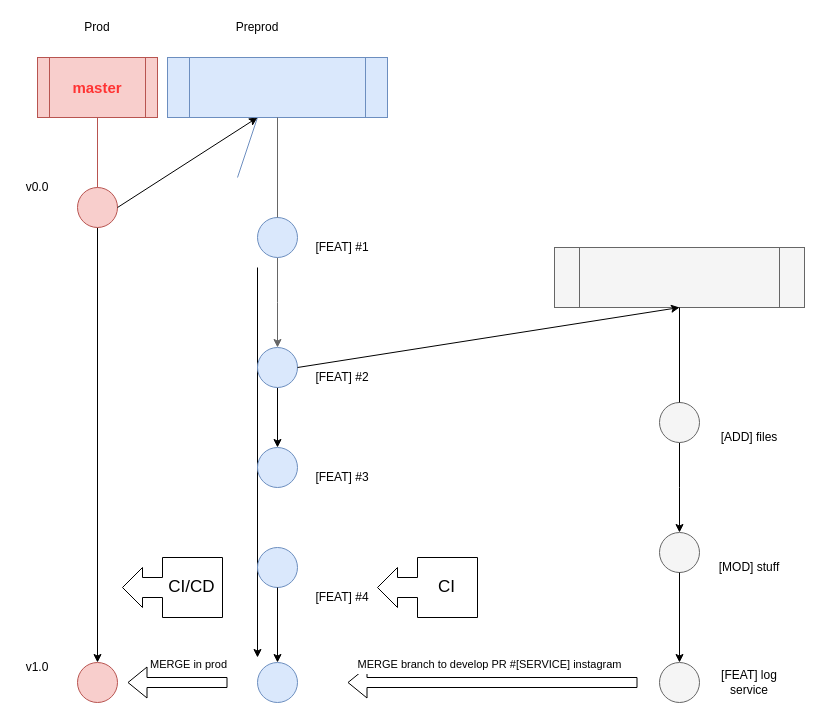
Some shapes in this 822 by 720 pixel diagram are drawn without their labels. The shapes that lost their labels are listed below. From the top down, each one's centre as x and y in pixels, then its label:
point (277, 87): [front|back|mobile]_dev
point (679, 277): feature/$$
